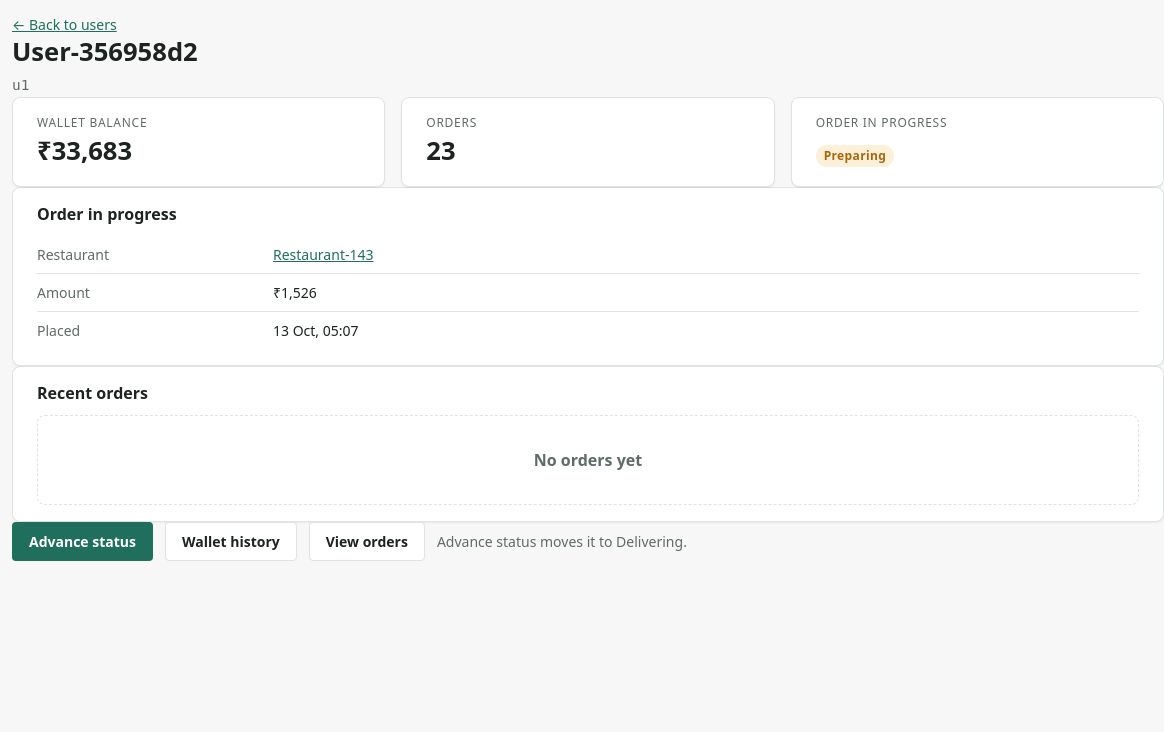
Scenario: Customer page › advances the order and shows the new status
The image size is (1164, 732).
Expected: the text "Advance status moves it to Delivering." is shown, x1=437 y1=531 x2=687 y2=552
Click the button "Advance status" at point(82, 542), box x1=12 y1=522 x2=153 y2=561
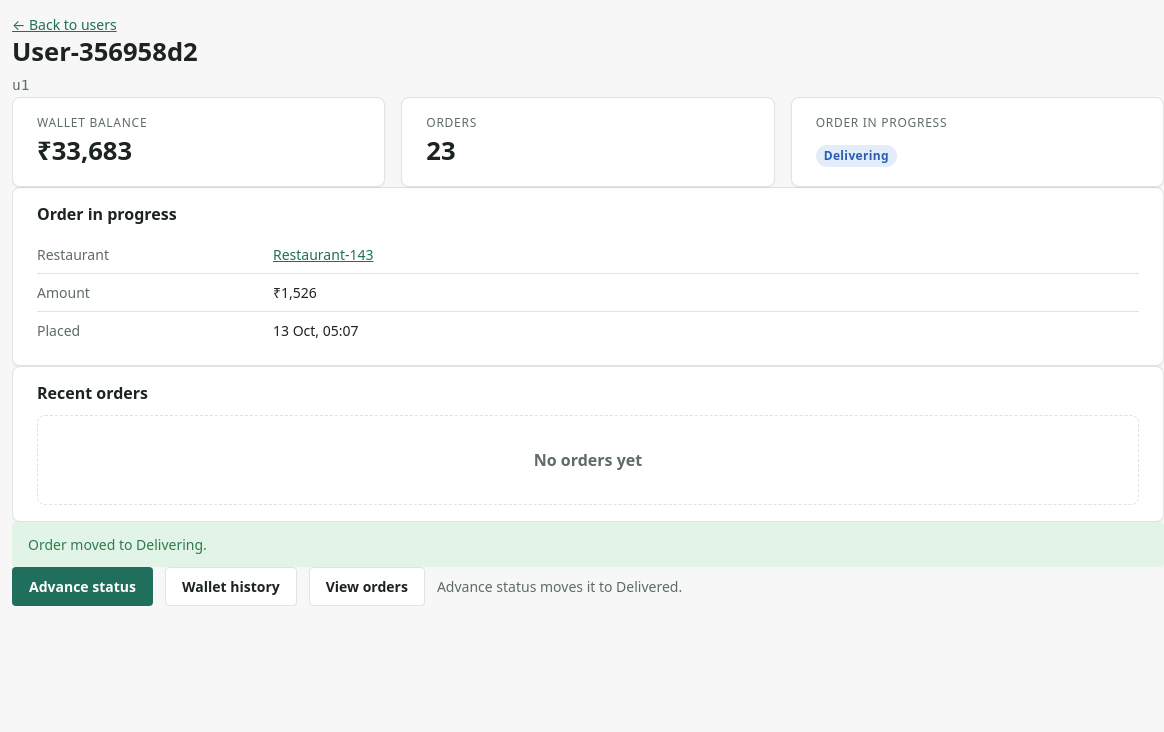
Expected: the message reads "Order moved to Delivering.", x1=28 y1=535 x2=207 y2=554
Expected: the element showing "Delivering" is shown, x1=816 y1=145 x2=897 y2=167
Expected: the text "Advance status moves it to Delivered." is shown, x1=437 y1=576 x2=682 y2=597
